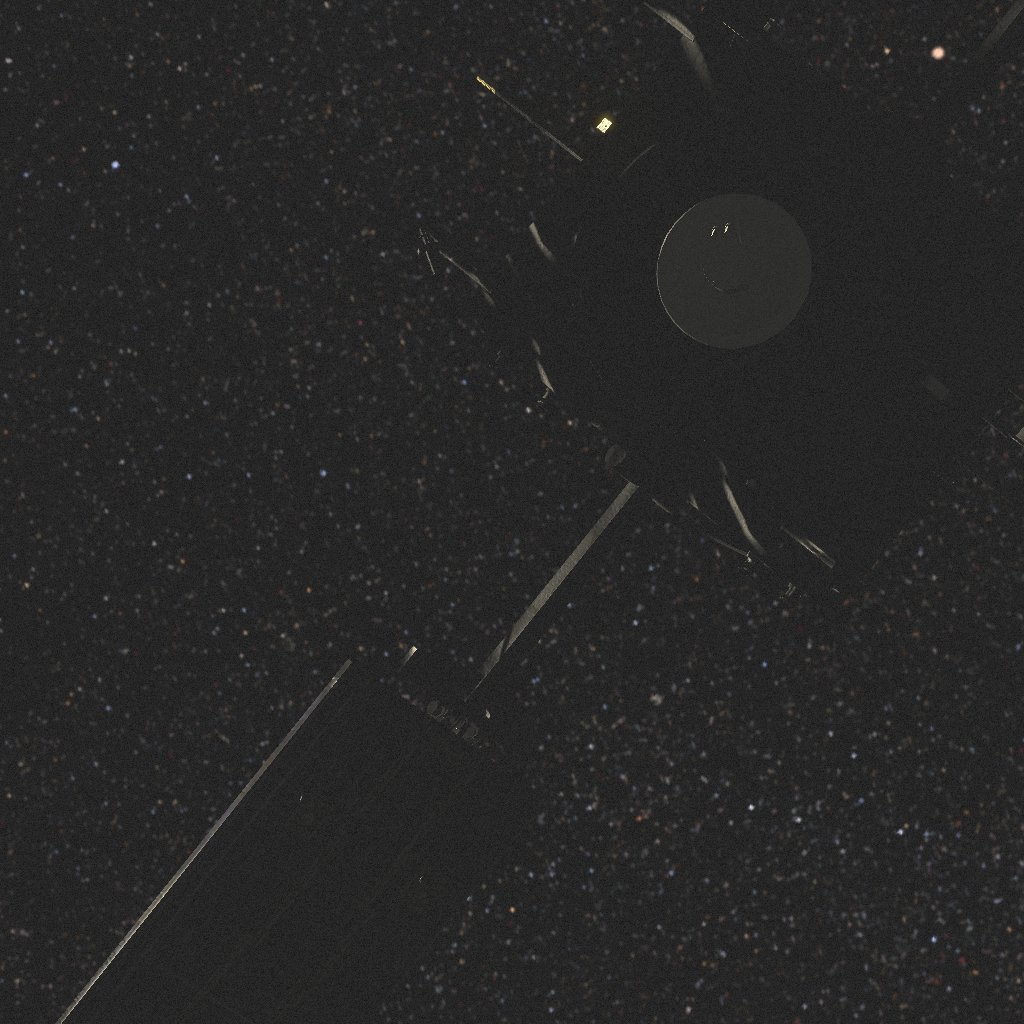smart_1: (55, 0, 1024, 1024)
